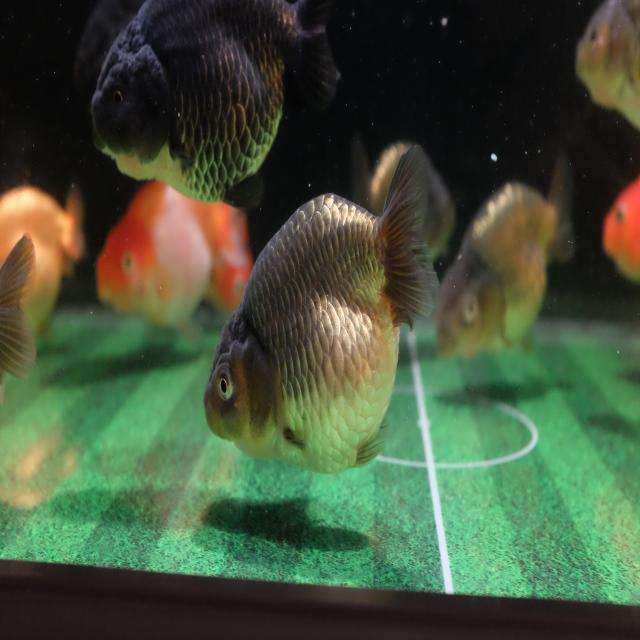Goldfish: (201, 142, 444, 479), (86, 0, 339, 213), (436, 152, 575, 370), (92, 182, 246, 331)
